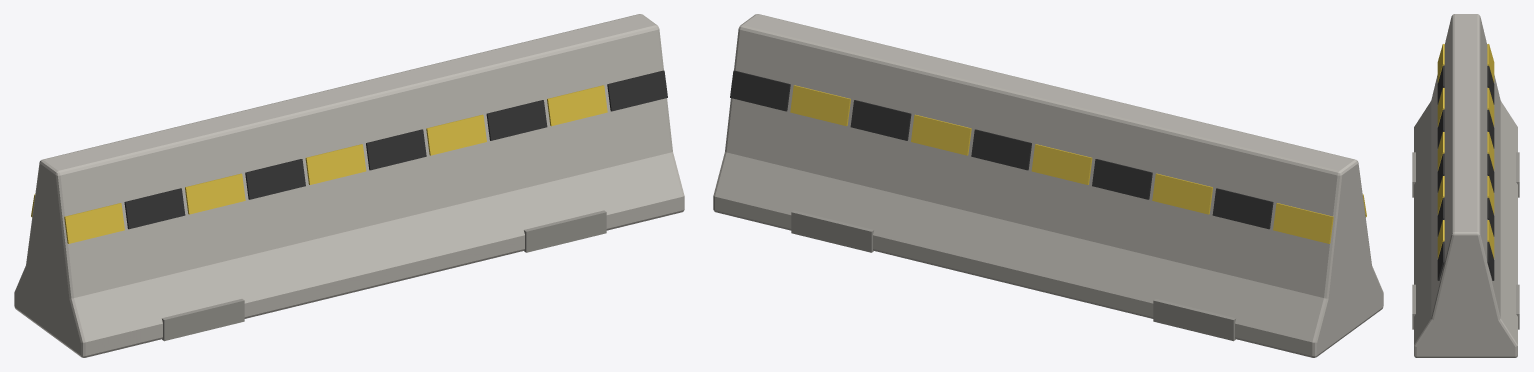
The model's file is barrier.glb.
3 renders of one model, left to right at view 1: azimuth 30°, elevation 25°; view 2: azimuth 150°, elevation 25°; view 3: azimuth 270°, elevation 25°, orthographic. The views are drawn at different scales.
Parts seen in each view (by area): view 1: Part; view 2: Part; view 3: Part.
Part boxes in pixels (box(x1,y1,x2,y2)): Part: box(14, 14, 684, 357); Part: box(713, 14, 1383, 357); Part: box(1412, 14, 1519, 357).
Bounding box in the file's own units: 3 × 0.8 × 0.62.
